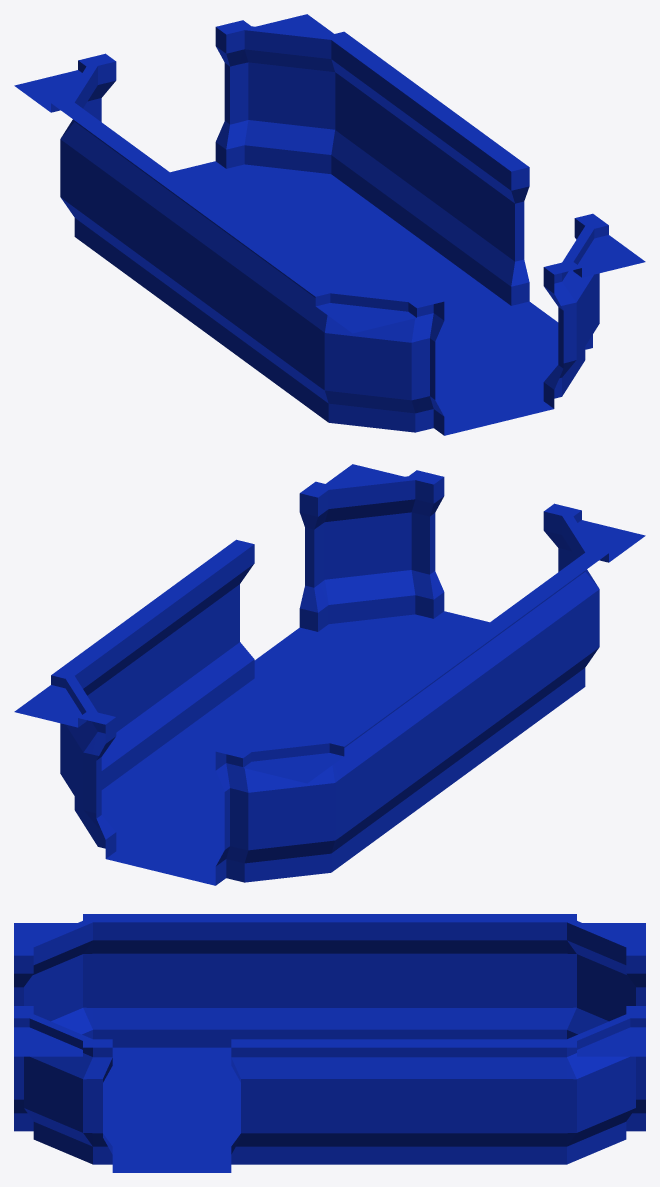
File: 2x1_TJunction03.FBX
3 views of the same model, one above another, from view 1: azimuth 30°, elevation 25°; view 2: azimuth 150°, elevation 25°; view 3: azimuth 270°, elevation 25° (orthographic). The views are drawn at different scales.
Visible parts, largest first — view 1: 2x1_TJunction3; view 2: 2x1_TJunction3; view 3: 2x1_TJunction3.
Boxes of the visible parts, box(x1,y1,x2,y2) form: 2x1_TJunction3: box(14, 14, 645, 435); 2x1_TJunction3: box(14, 464, 645, 885); 2x1_TJunction3: box(14, 914, 645, 1172).
Size of what is drawn, in the model's own units: 800 by 350 by 1600.
